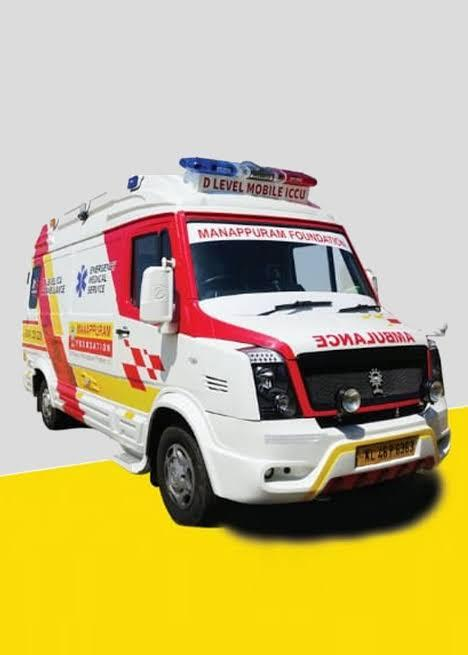ambulance: (21, 158, 447, 519)
